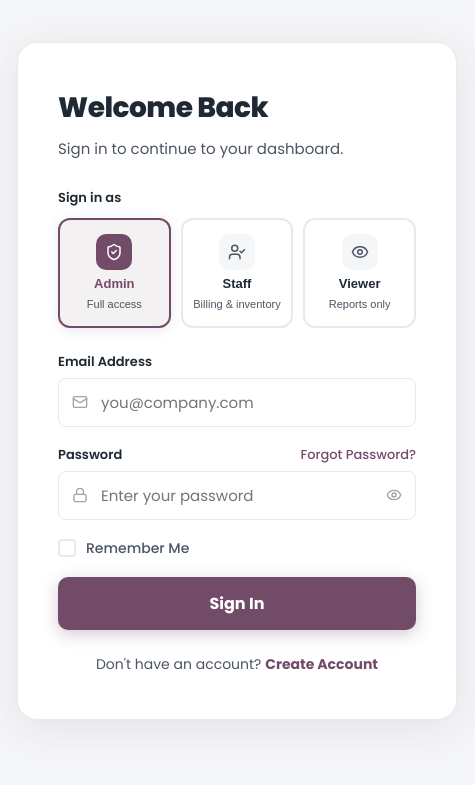
Test: LoginForm › shows backend login errors
Step 1. Type "admin@inventra.test" into the field named "email address" → (237, 402), box top-left (58, 378), bottom-right (416, 427)
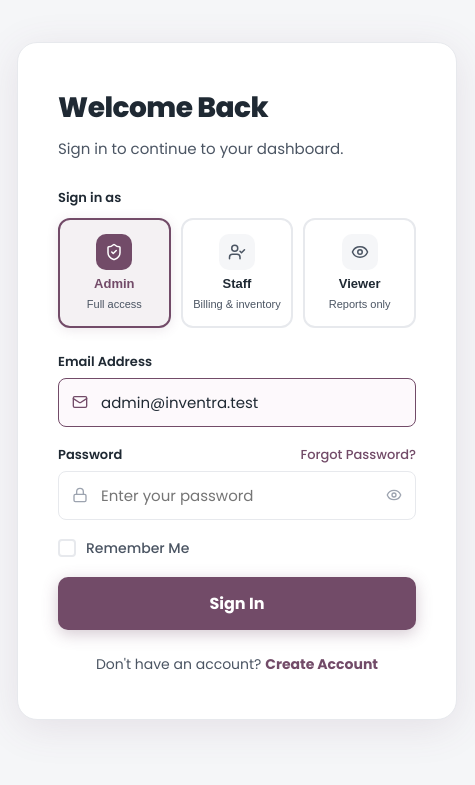
Step 2. Type "wrong-password" into the password field labelled "Enter your password" → (237, 495), box top-left (58, 471), bottom-right (416, 520)
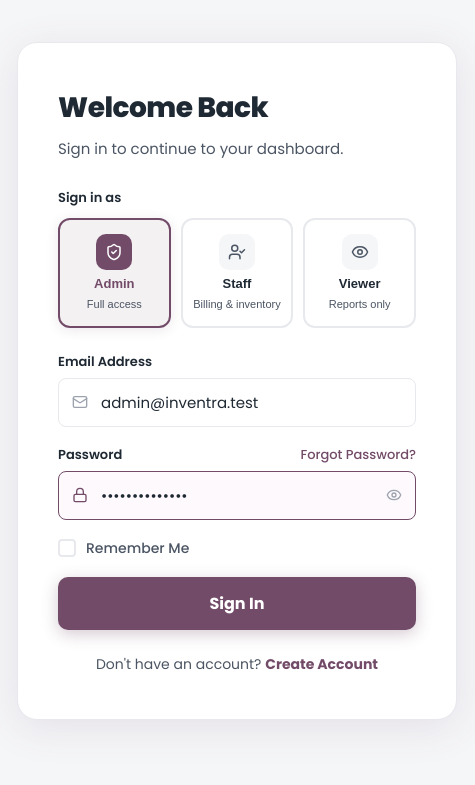
Step 3. Click the button "Sign In" → (237, 603), box top-left (58, 577), bottom-right (416, 630)
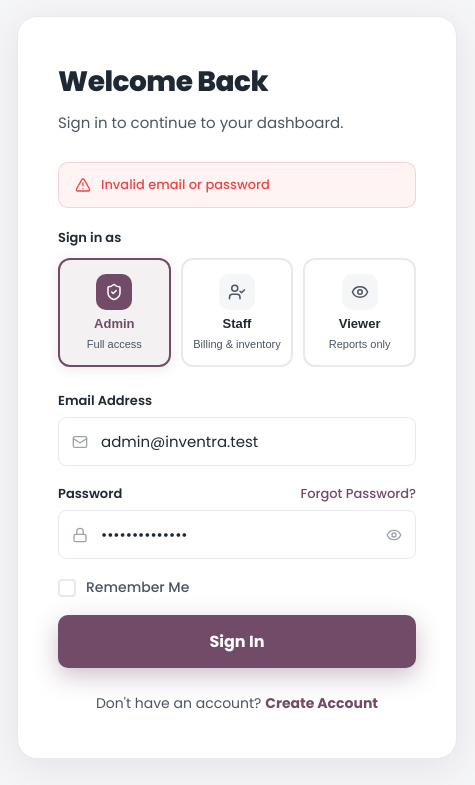
Check: the text "Invalid email or password" is shown, box top-left (101, 175), bottom-right (270, 195)
